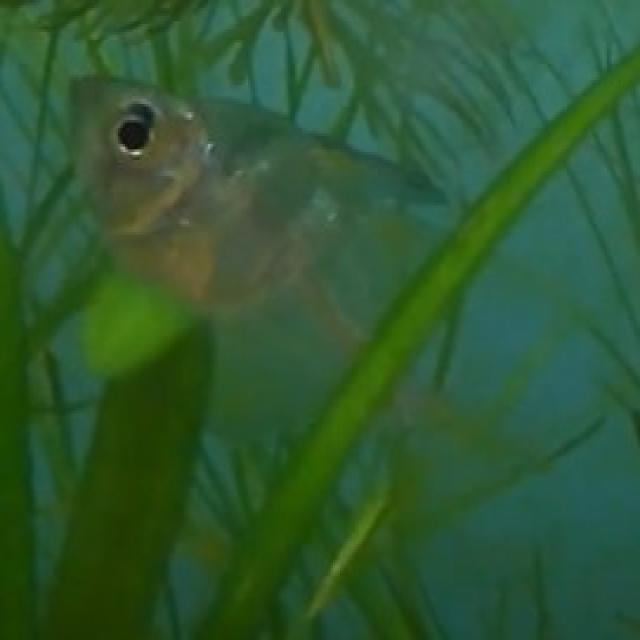Glass-Perchlet: (28, 13, 524, 452)
